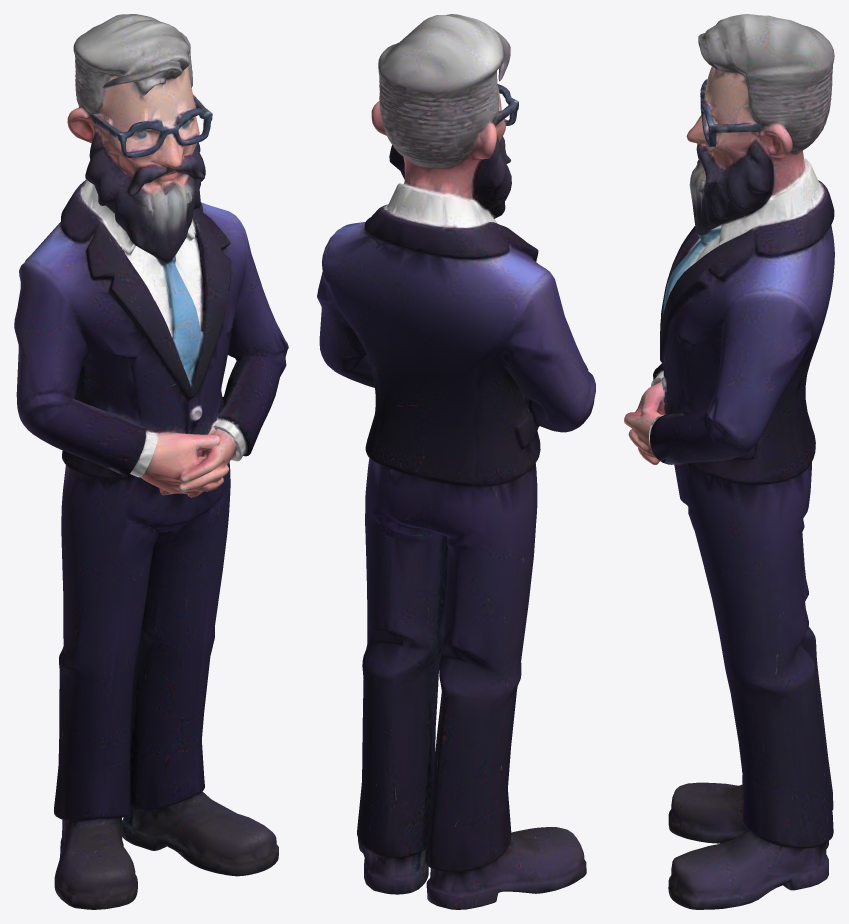
Rendered from professor-new.glb.
3 renders of one model, left to right at view 1: azimuth 30°, elevation 25°; view 2: azimuth 150°, elevation 25°; view 3: azimuth 270°, elevation 25°, orthographic.
Visible parts, largest first — view 1: Mesh_0.003; view 2: Mesh_0.003; view 3: Mesh_0.003.
Part boxes in pixels (bbox=[...]): Mesh_0.003: bbox=[14, 14, 288, 909]; Mesh_0.003: bbox=[317, 14, 595, 909]; Mesh_0.003: bbox=[624, 14, 834, 909].
Size of the model in its own units: 0.5736 by 1.76 by 0.3992.
Materials: 1 (1 with a texture image).
